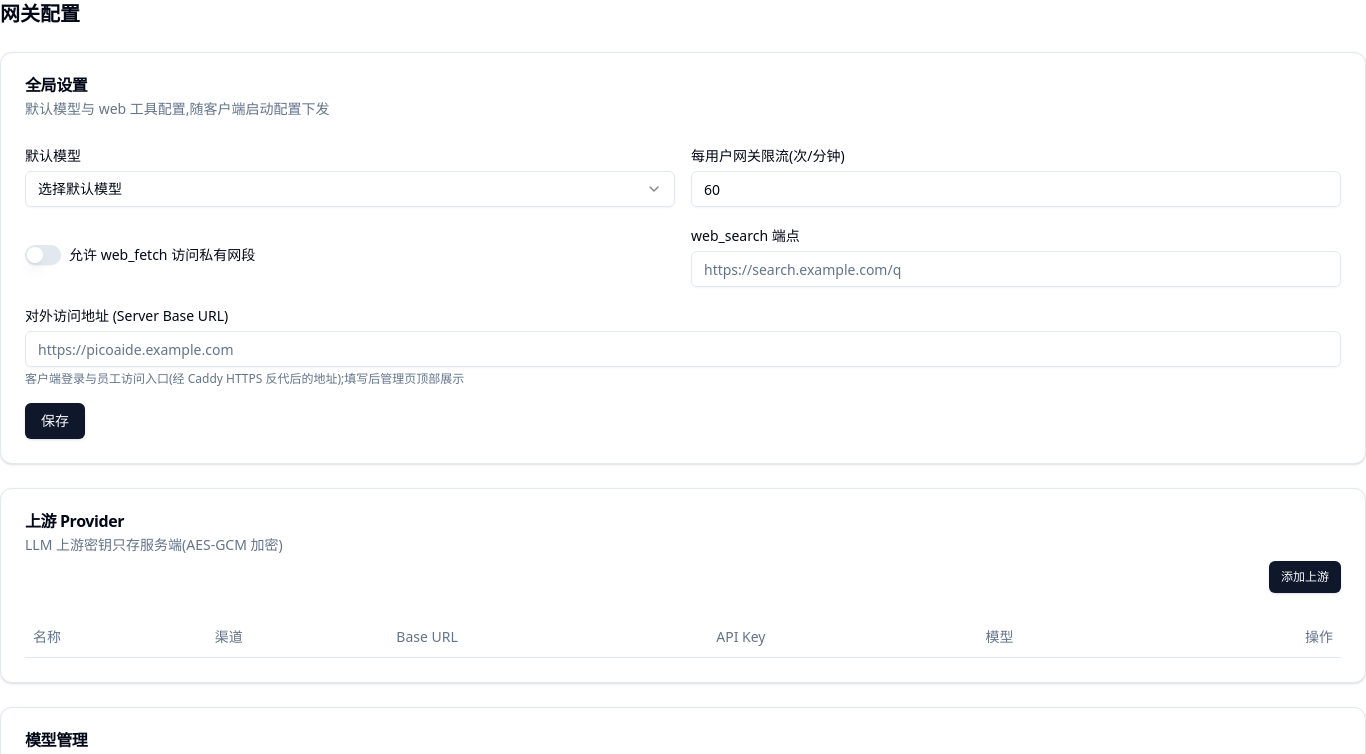
Gateway 网关配置页 › 添加上游:对话框渲染名称/密钥/模型字段(Radix Select 联动由浏览器 E2E 覆盖)
The width and height of the screenshot is (1366, 754).
Expected: the text "全局设置" is shown, top-left (25, 74), bottom-right (87, 96)
Click the button "添加上游".
click(1305, 577)  # box top-left (1269, 561), bottom-right (1341, 593)
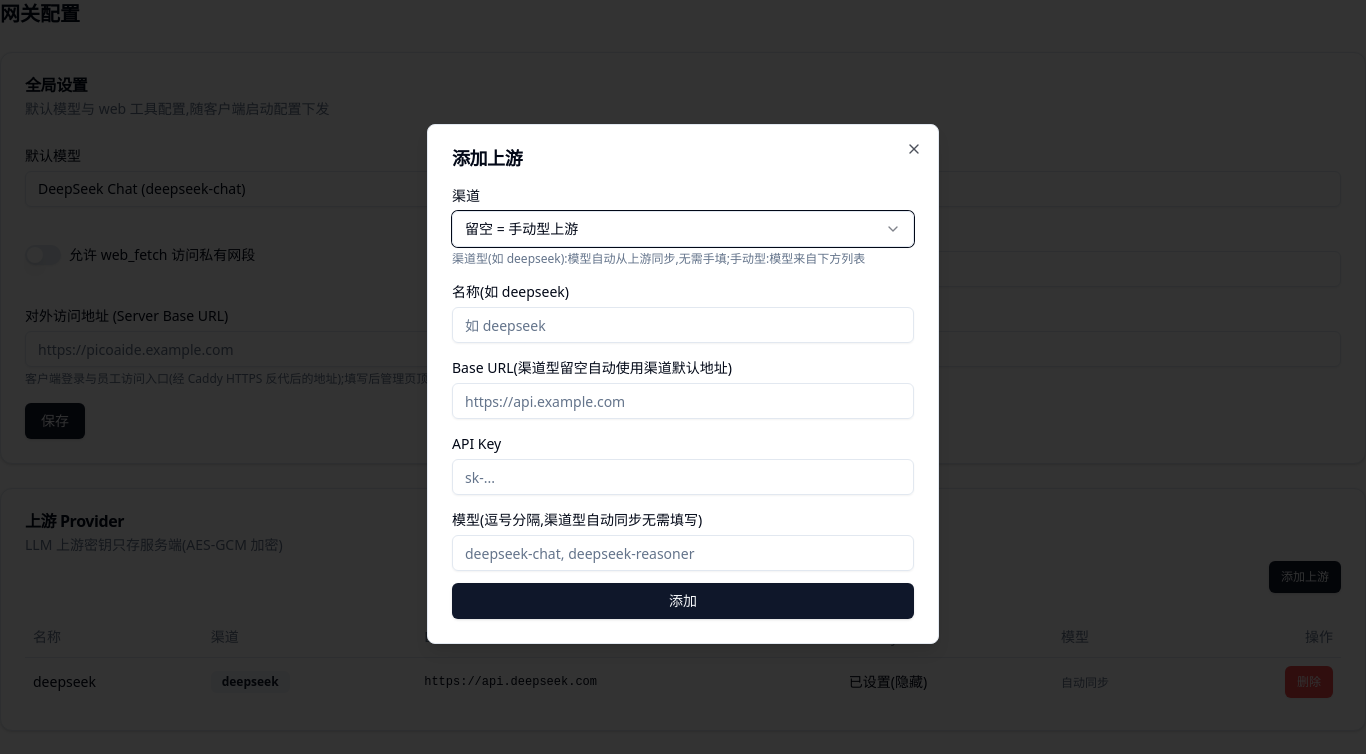
Result: the field with placeholder "如 deepseek" is shown at top-left (452, 307), bottom-right (914, 343)
Result: the password field with placeholder "sk-..." is shown at top-left (452, 459), bottom-right (914, 495)
Result: the field with placeholder "deepseek-chat, deepseek-reasoner" is shown at top-left (452, 535), bottom-right (914, 571)
